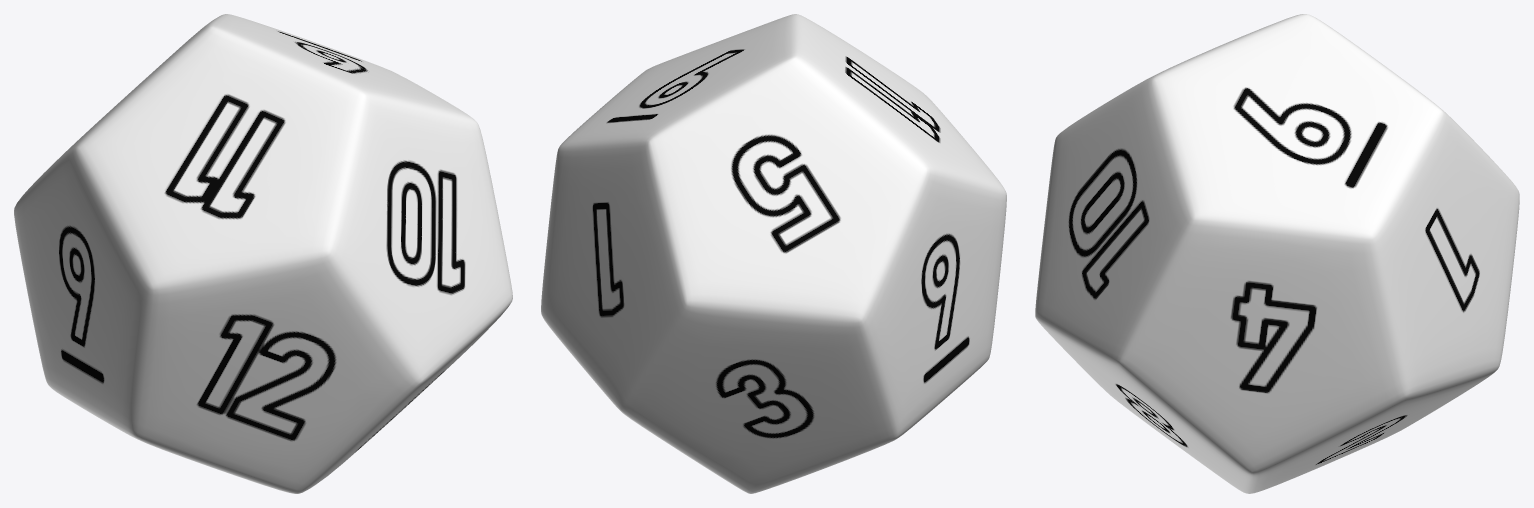
File: dice12.fbx
3 views of the same model, side by side, from view 1: azimuth 30°, elevation 25°; view 2: azimuth 150°, elevation 25°; view 3: azimuth 270°, elevation 25° (orthographic). The views are drawn at different scales.
Parts seen in each view (by area): view 1: Solid.004; view 2: Solid.004; view 3: Solid.004.
Part boxes in pixels (box(x1,y1,x2,y2)): Solid.004: box(14, 14, 512, 493); Solid.004: box(541, 14, 1006, 493); Solid.004: box(1035, 14, 1519, 493).
Bounding box in the file's own units: 152 × 180 × 178.
